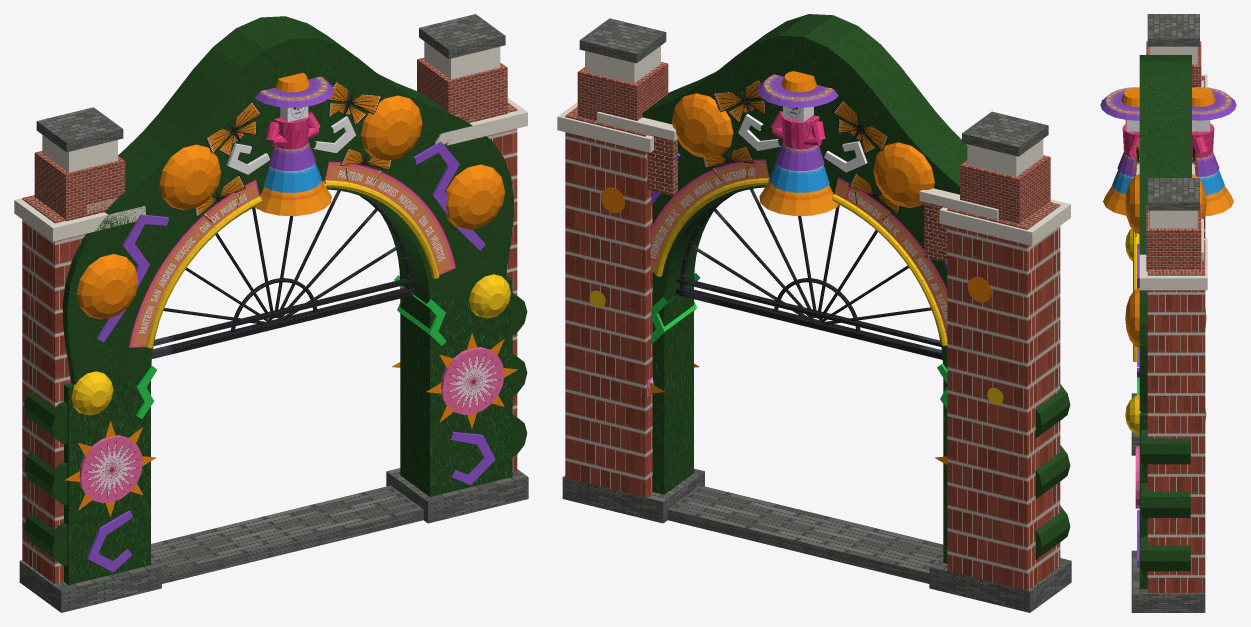
The model's file is entrada_arco_mixquic.obj.
3 views of the same model, side by side, from view 1: azimuth 30°, elevation 25°; view 2: azimuth 150°, elevation 25°; view 3: azimuth 270°, elevation 25° (orthographic). The views are drawn at different scales.
Parts seen in each view (by area): view 1: entrada_arco_mixquic; view 2: entrada_arco_mixquic; view 3: entrada_arco_mixquic.
Boxes of the visible parts, left/top/right/bottom form: entrada_arco_mixquic: left=14, top=14, right=528, bottom=612; entrada_arco_mixquic: left=557, top=14, right=1071, bottom=612; entrada_arco_mixquic: left=1100, top=14, right=1236, bottom=612.
Bounding box in the file's own units: 3.68 × 3.8 × 1.04.
Materials: 1 (1 with a texture image).
